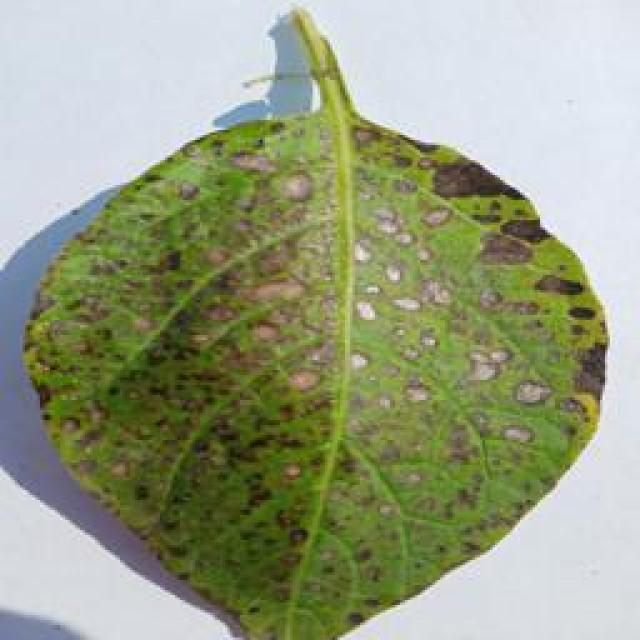Potato_Early_Blight: (19, 86, 616, 640)
